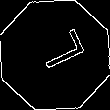L_SW: (25, 30, 85, 80)
